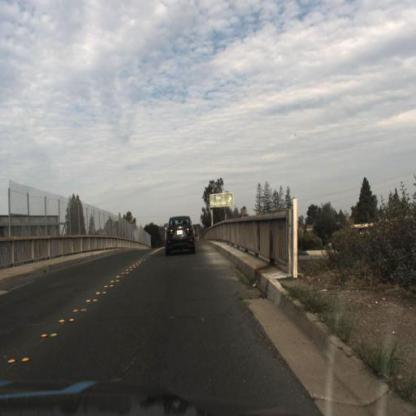car: (162, 206, 198, 262)
